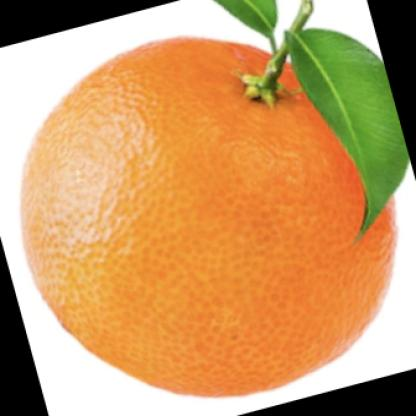fresh: (19, 36, 397, 394)
